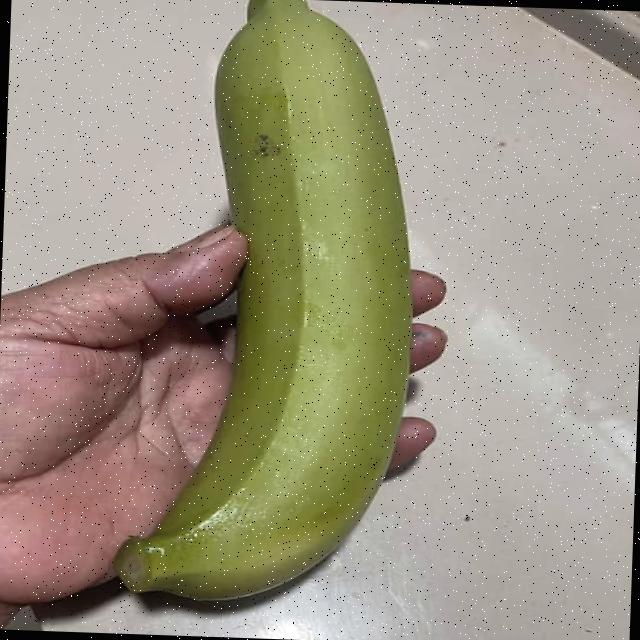Raw: (69, 0, 470, 640)
